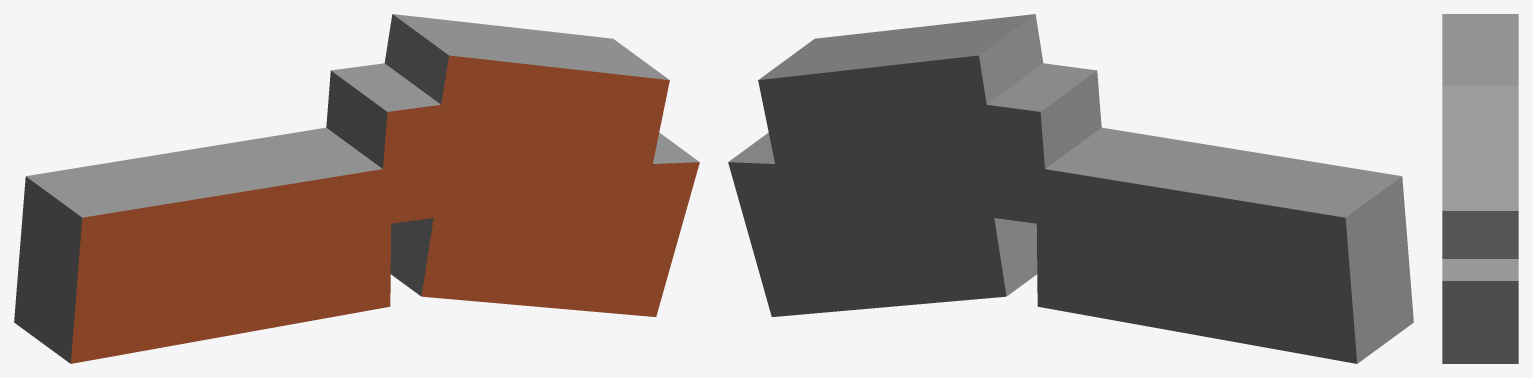
The model's file is construction_4418_assumed_A_Casa_h6m.obj.
3 renders of one model, left to right at view 1: azimuth 30°, elevation 25°; view 2: azimuth 150°, elevation 25°; view 3: azimuth 270°, elevation 25°, orthographic. The views are drawn at different scales.
Parts seen in each view (by area): view 1: construction_4418_assumed_A_Casa; view 2: construction_4418_assumed_A_Casa; view 3: construction_4418_assumed_A_Casa.
Part boxes in pixels (x1,y1,x2,y2): construction_4418_assumed_A_Casa: (14, 14, 699, 363); construction_4418_assumed_A_Casa: (728, 14, 1413, 363); construction_4418_assumed_A_Casa: (1442, 14, 1518, 363).
Size of the model in its own units: 38.46 by 18.24 by 6.
